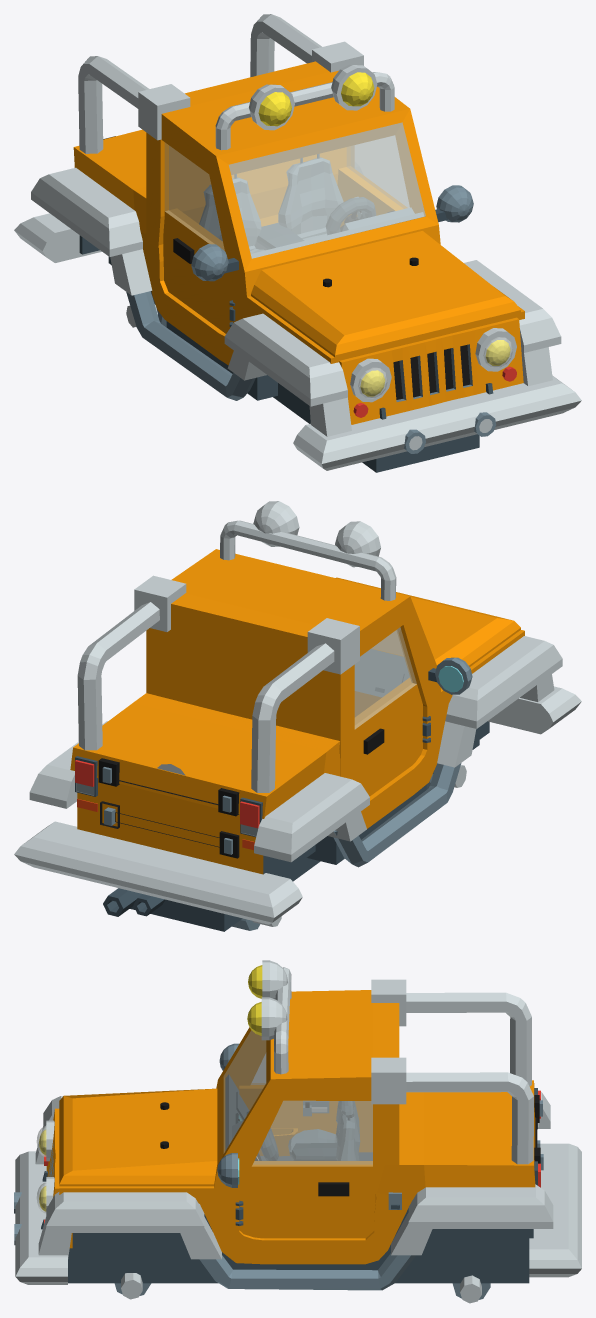
File: Jeep.fbx
3 renders of one model, top to bottom at view 1: azimuth 30°, elevation 25°; view 2: azimuth 150°, elevation 25°; view 3: azimuth 270°, elevation 25°, orthographic. The views are drawn at different scales.
Visible parts, largest first — view 1: group1085046267; view 2: group1085046267; view 3: group1085046267.
Part boxes in pixels (x1=…): group1085046267: x1=14, y1=14, x2=581, y2=472; group1085046267: x1=14, y1=501, x2=581, y2=931; group1085046267: x1=14, y1=960, x2=581, y2=1303.
Bounding box in the file's own units: 201 × 224 × 388.
